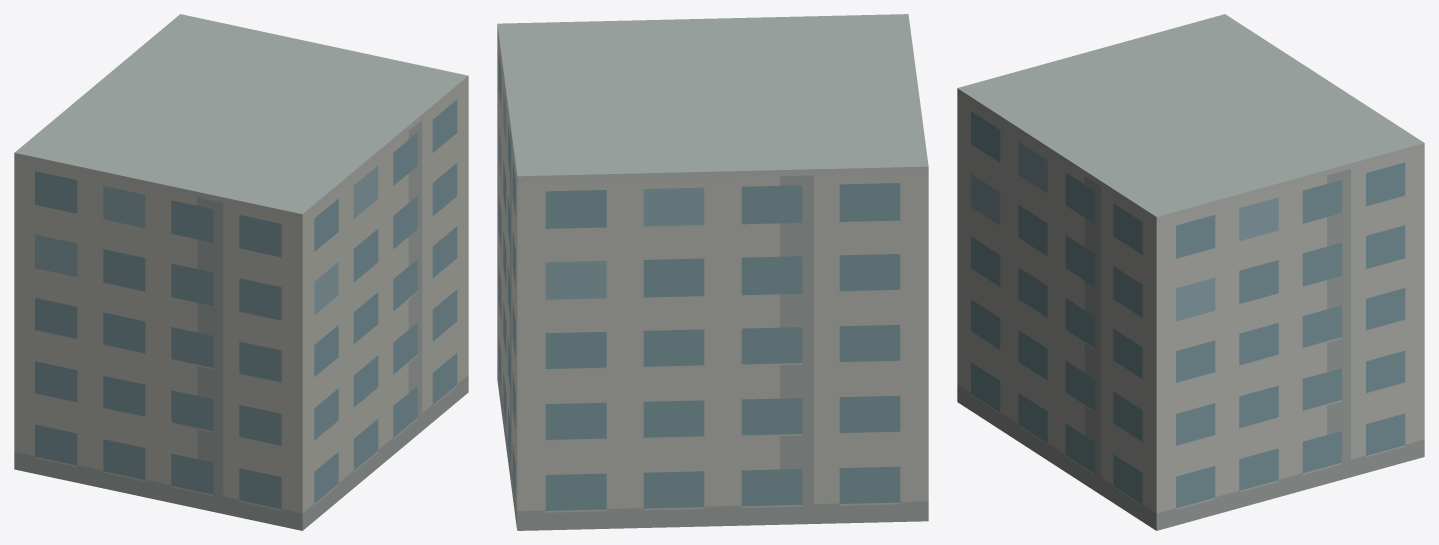
File: residential-41f6033c-2a39-4e20-989b-611504fb8b1f.glb
3 views of the same model, side by side, from view 1: azimuth 30°, elevation 25°; view 2: azimuth 150°, elevation 25°; view 3: azimuth 270°, elevation 25° (orthographic). The views are drawn at different scales.
Visible parts, largest first — view 1: residential-41f6033c-2a39-4e20-989b-611504fb8b1f.tmp; view 2: residential-41f6033c-2a39-4e20-989b-611504fb8b1f.tmp; view 3: residential-41f6033c-2a39-4e20-989b-611504fb8b1f.tmp.
Boxes of the visible parts, <box> form: residential-41f6033c-2a39-4e20-989b-611504fb8b1f.tmp: <box>14,14,468,530</box>; residential-41f6033c-2a39-4e20-989b-611504fb8b1f.tmp: <box>497,14,928,530</box>; residential-41f6033c-2a39-4e20-989b-611504fb8b1f.tmp: <box>957,14,1424,530</box>.
Size of the model in its own units: 19.22 by 13.85 by 18.7.
